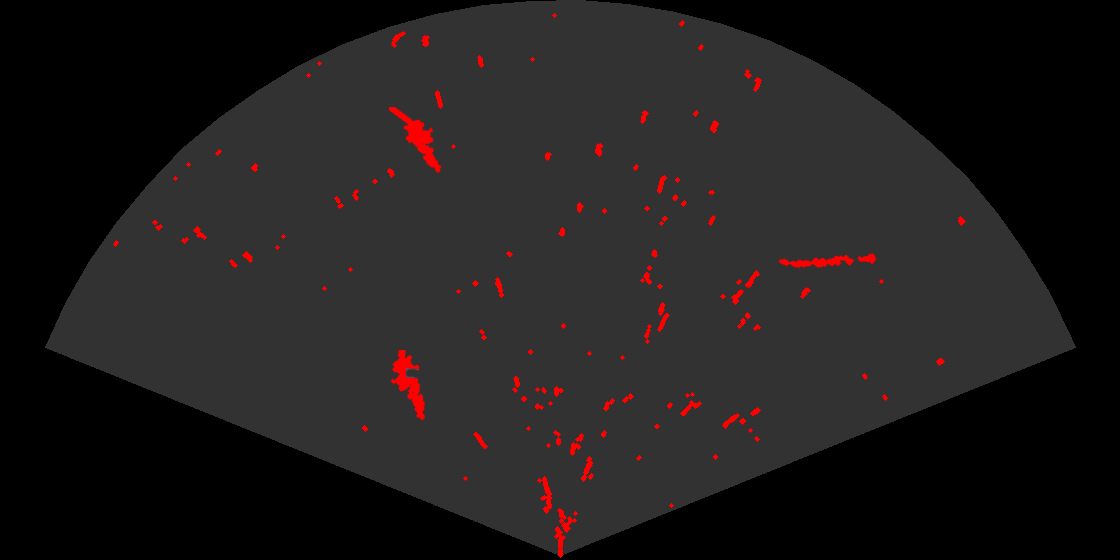chain: (777, 252, 879, 270)
frogman: (389, 107, 443, 175), (389, 350, 426, 421)
